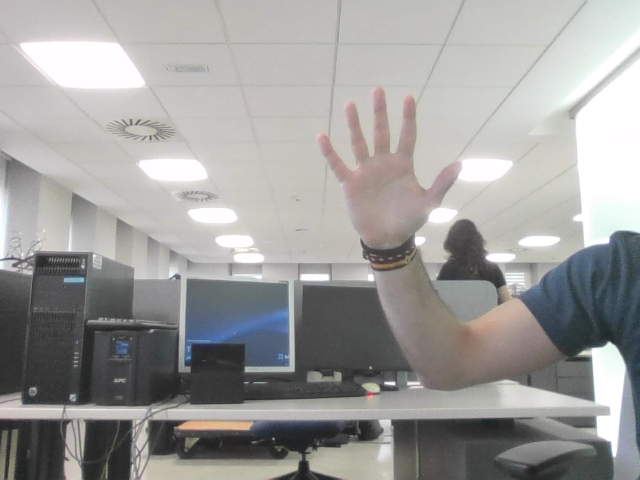Mano Abierta: (327, 100, 447, 217)
